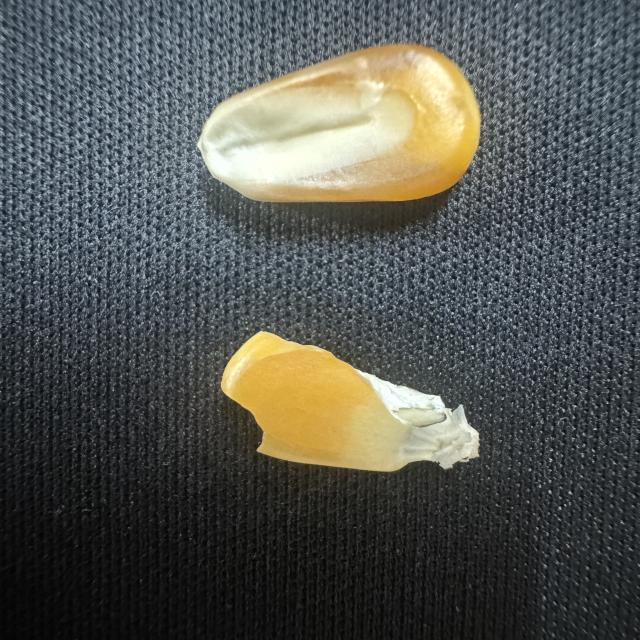Bad-Seed: (218, 327, 491, 493)
Good-Seed: (169, 40, 497, 207)
